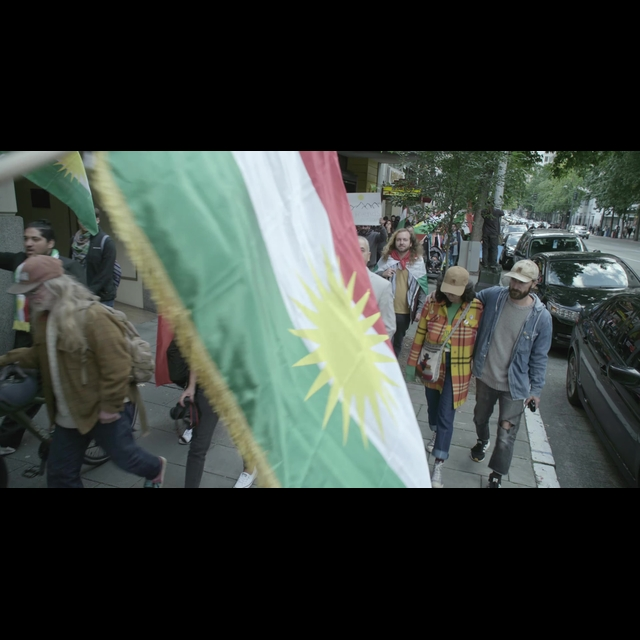IBKY: (260, 261, 414, 455)
